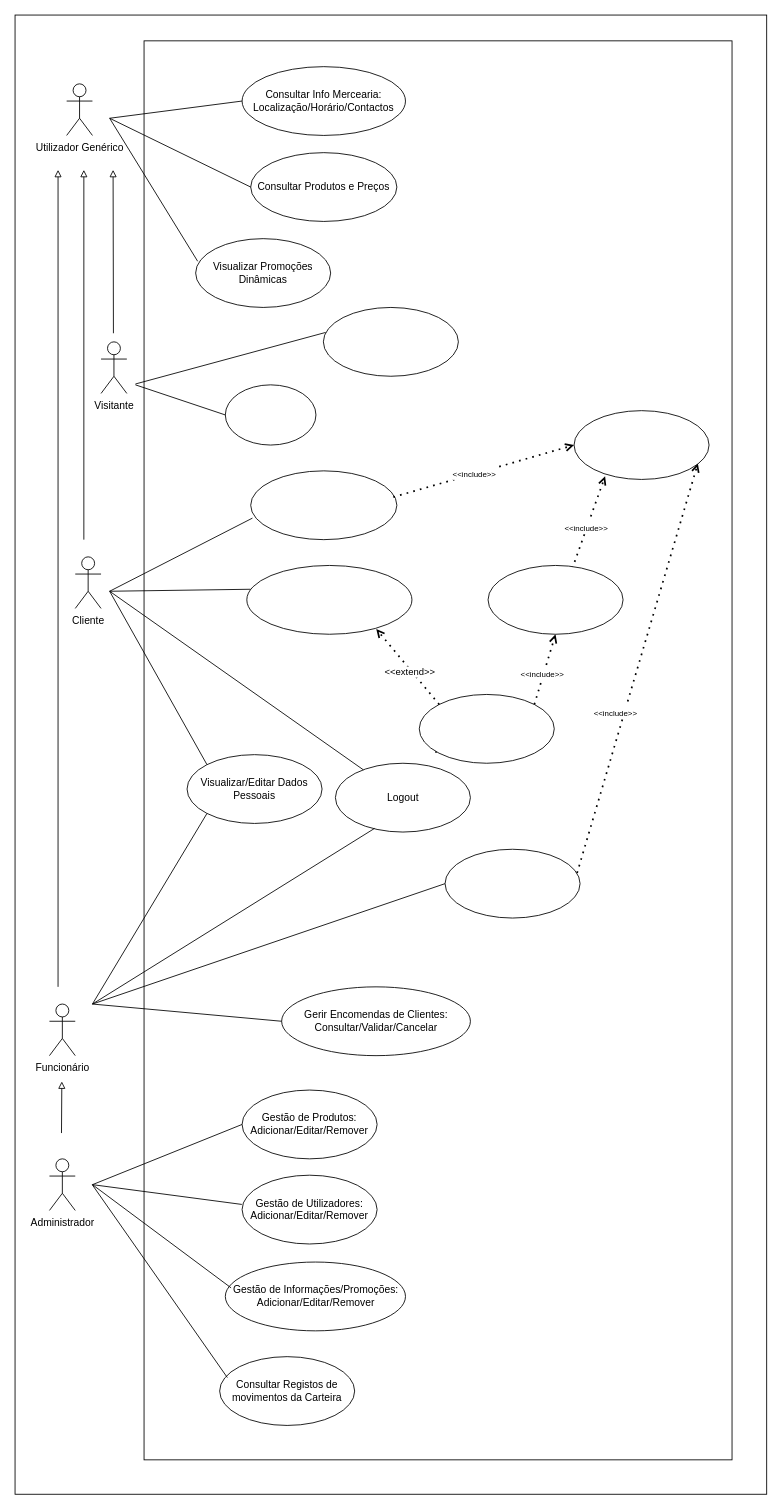
Image size: 782x1509. Some labels were removed from this diagram. The shapes that lost their labels are listed below. From the top down, each one's box as (x1, y1, x2, y2) in pixels, then its label:
(322, 307, 458, 376): Registo de Cliente
(224, 384, 316, 445): Login
(573, 410, 709, 479): Registar Operação
(250, 470, 397, 540): Gestão de Saldo: Consultar/Adicionar/Retirar
(246, 565, 412, 634): Gestão de Encomendas: Consultar/Criar/Editar/Cancelar
(487, 565, 623, 634): Pagar Encomenda
(418, 694, 554, 763): Enviar encomenda
(444, 848, 580, 918): Gerir Saldo de Clientes: Consultar/Adicionar/Retirar
